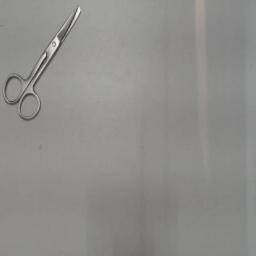Dressing Scissors: (0, 4, 88, 126)
